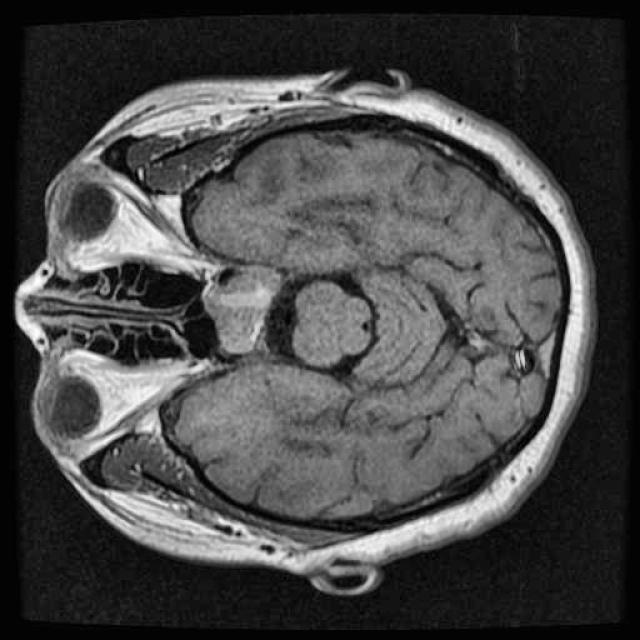Tumor: (190, 255, 290, 368)
